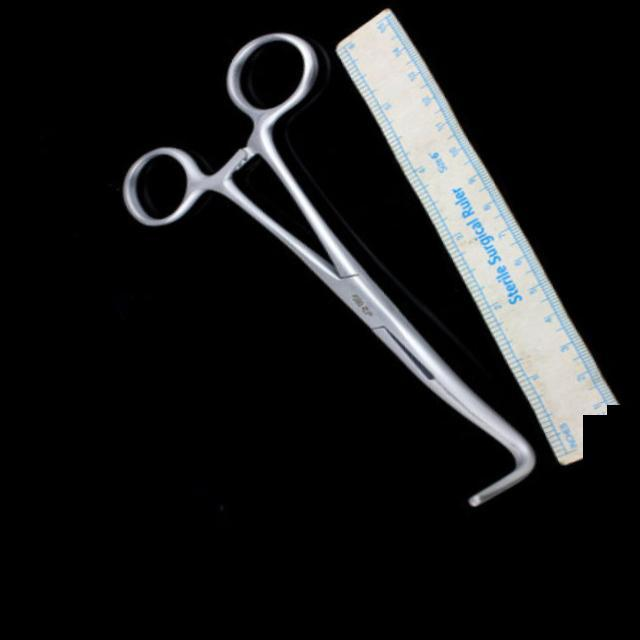Rectangle Cholecystectomy Forceps: (61, 0, 544, 602)
